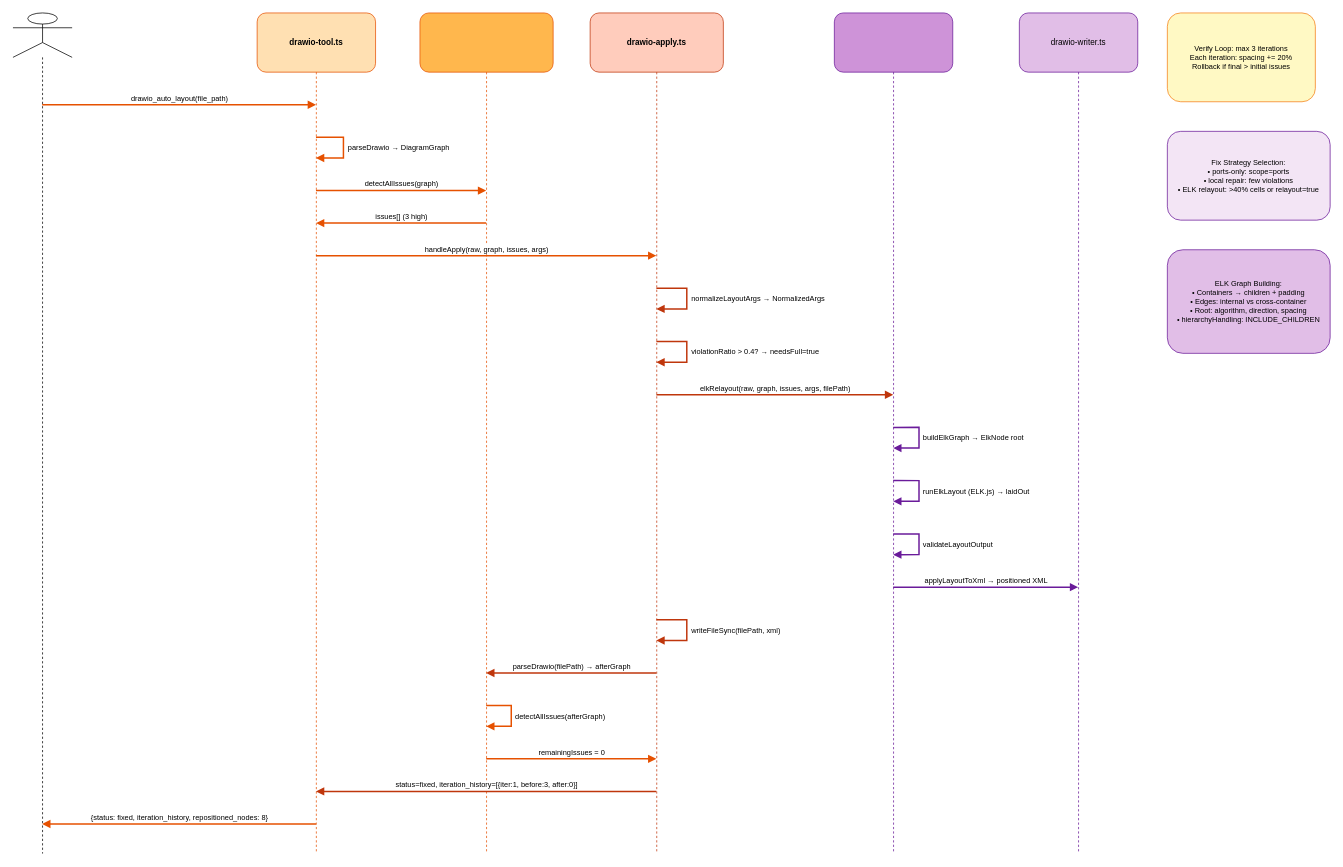
Some shapes in this 1343 by 867 pixel diagram are drawn without their labels. The box of each missing label's shape, as (x1, y1, x2, y2) in pixels:
AI Agent: (12, 12, 72, 854)
drawio-detection.ts: (419, 12, 553, 854)
elk-layout.ts: (834, 12, 953, 854)
